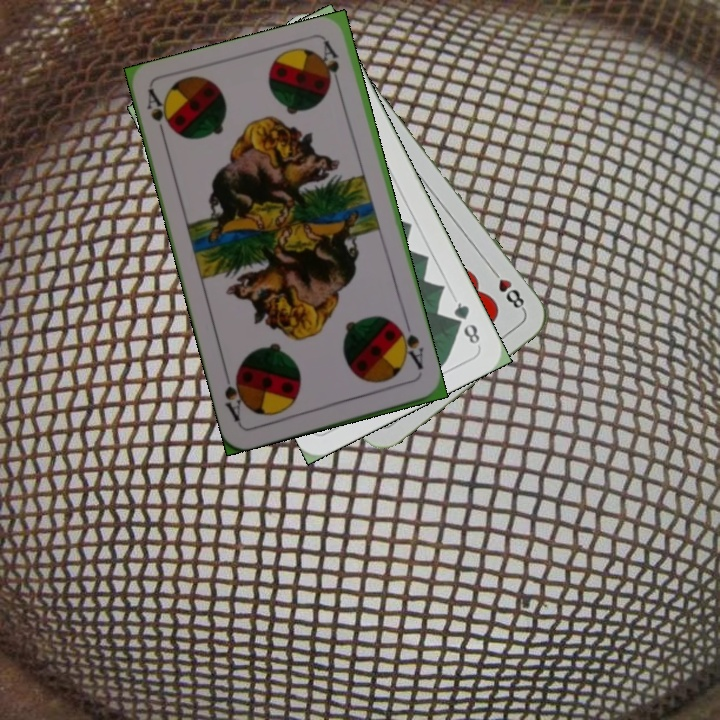G8: (449, 298, 483, 347)
H8: (485, 263, 527, 313)
SA: (142, 86, 176, 145), (392, 321, 427, 377)
